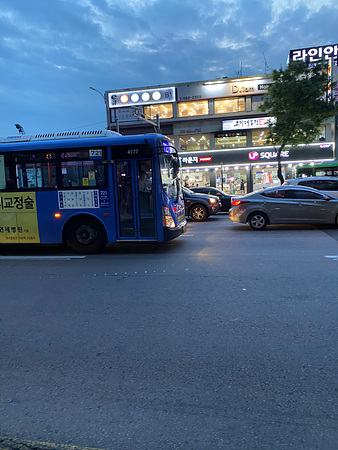entrance: (115, 151, 157, 244)
